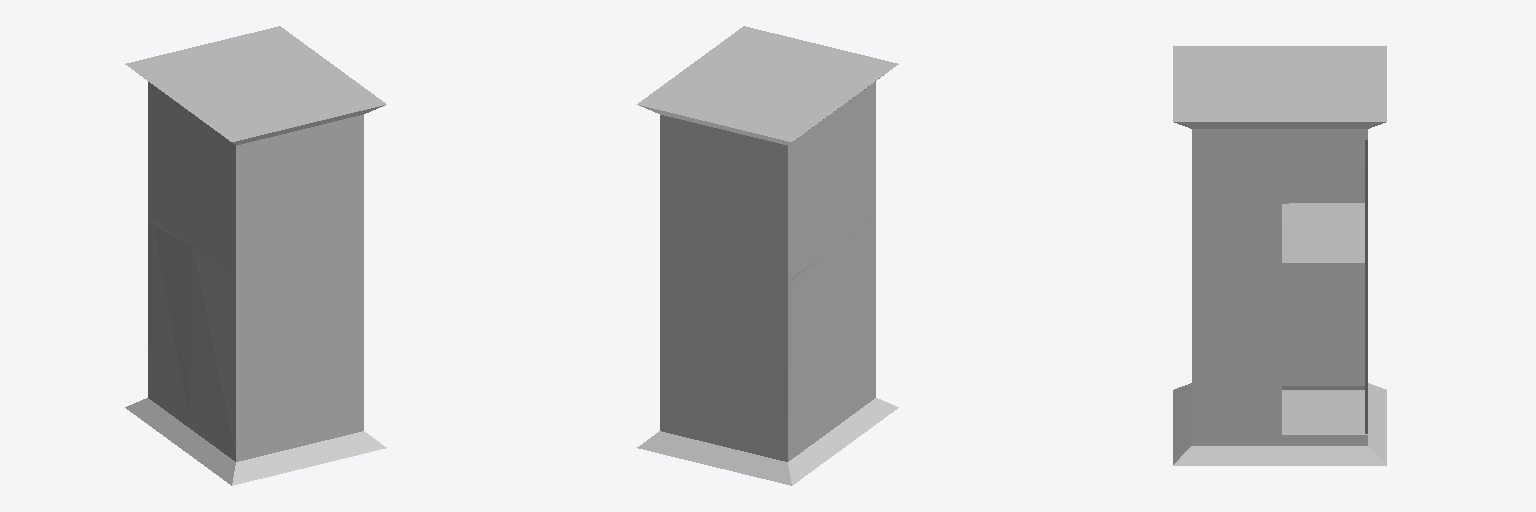
Rendered from Wardrobe for map.obj.
3 renders of one model, left to right at view 1: azimuth 30°, elevation 25°; view 2: azimuth 150°, elevation 25°; view 3: azimuth 270°, elevation 25°, orthographic.
Parts seen in each view (by area): view 1: Wardrobe_for_map:pCube1; view 2: Wardrobe_for_map:pCube1; view 3: Wardrobe_for_map:pCube1.
Part boxes in pixels (x1,y1,x2,y2): Wardrobe_for_map:pCube1: (125, 26, 386, 485); Wardrobe_for_map:pCube1: (637, 26, 898, 485); Wardrobe_for_map:pCube1: (1173, 46, 1386, 465).
Bounding box in the file's own units: 1.26 × 2.66 × 1.51.